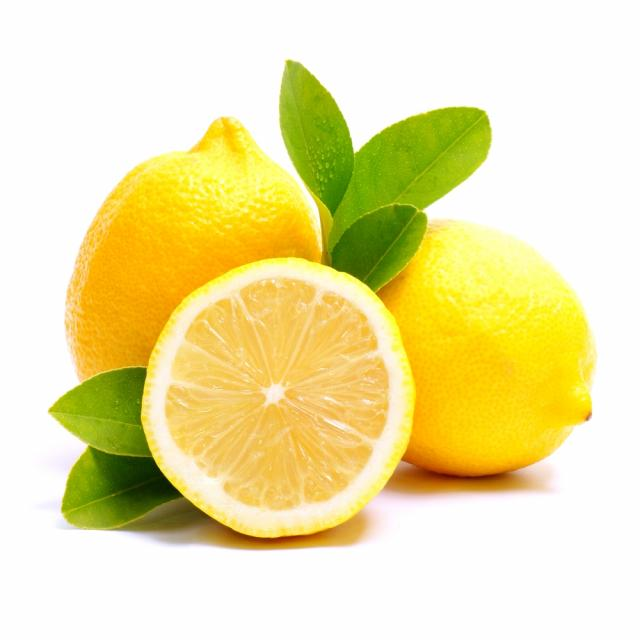lemon: (140, 258, 416, 537), (64, 117, 319, 372), (385, 220, 594, 478)
